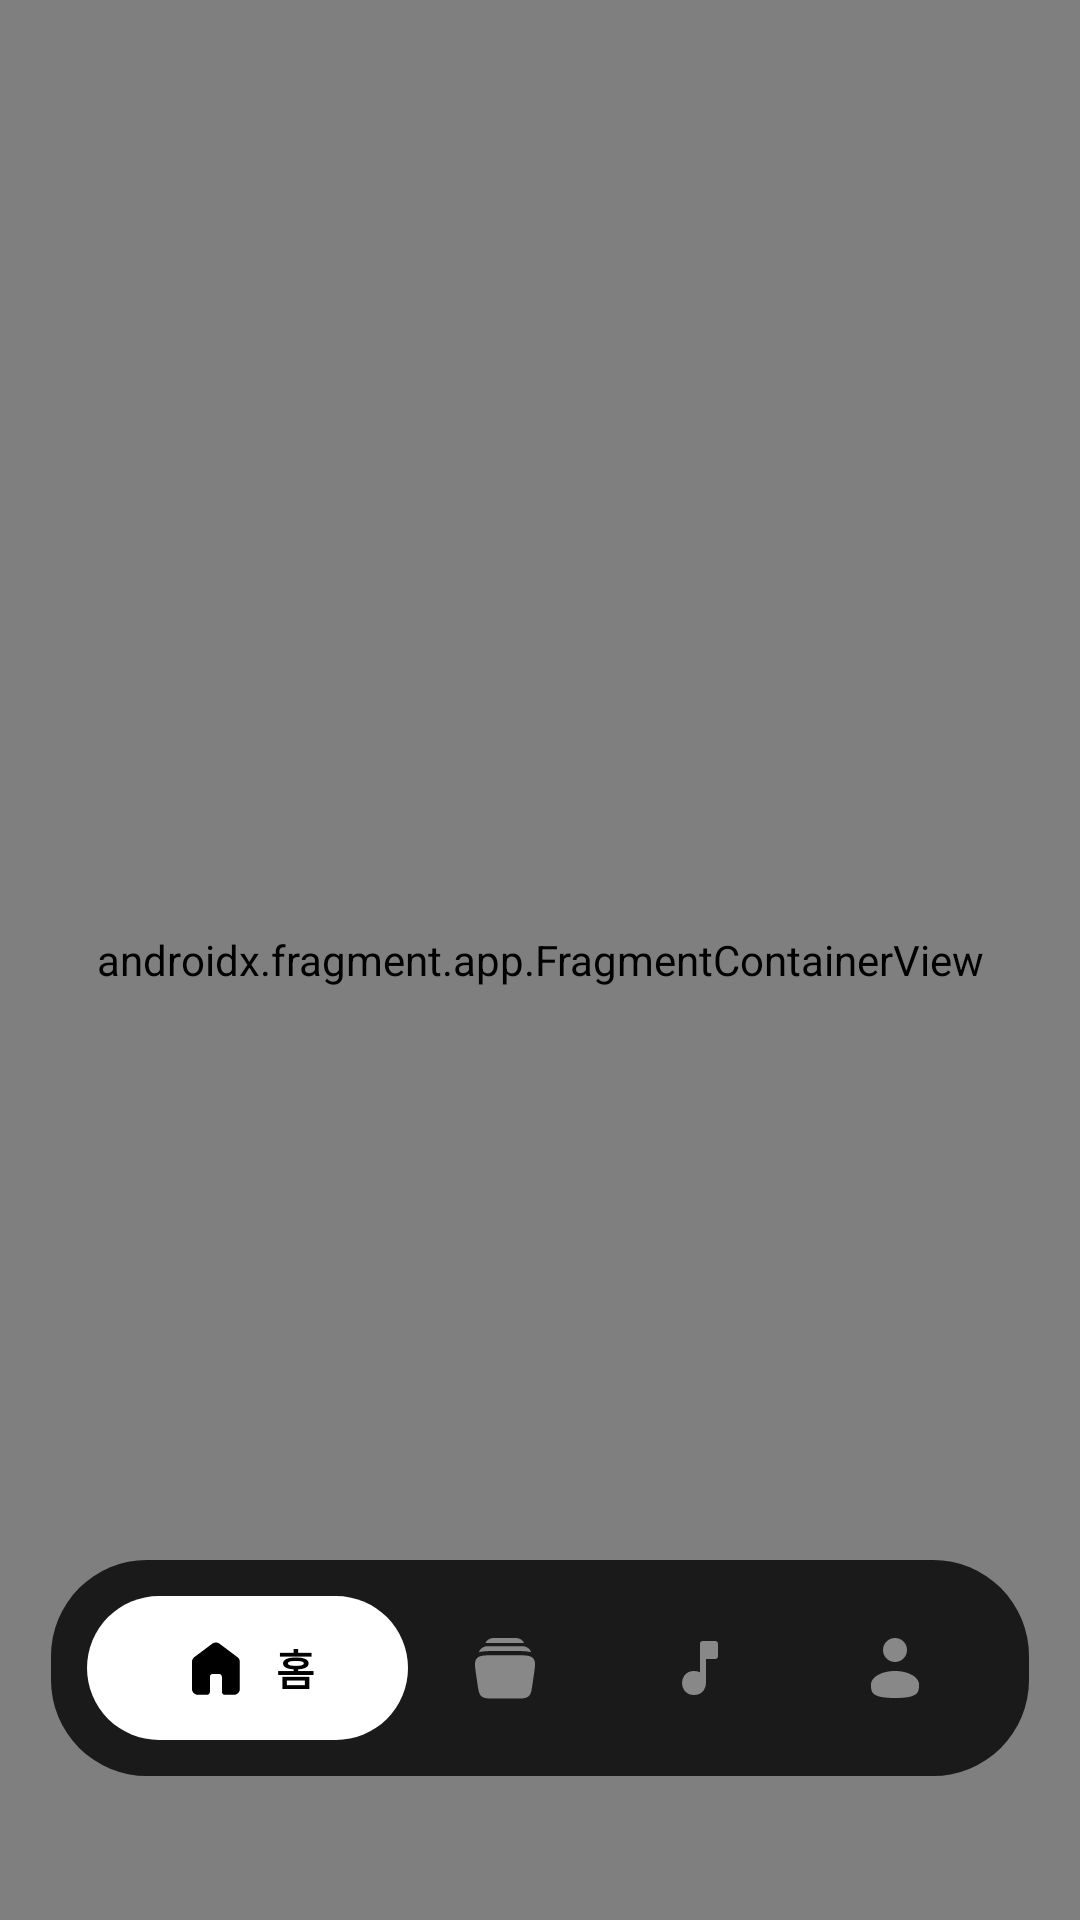

Named icons in this screenshot (1080 x 1920) and their centers, (x=x, y=y):
home nav: (x=216, y=1668)
library nav: (x=505, y=1668)
mypage nav: (x=895, y=1668)
